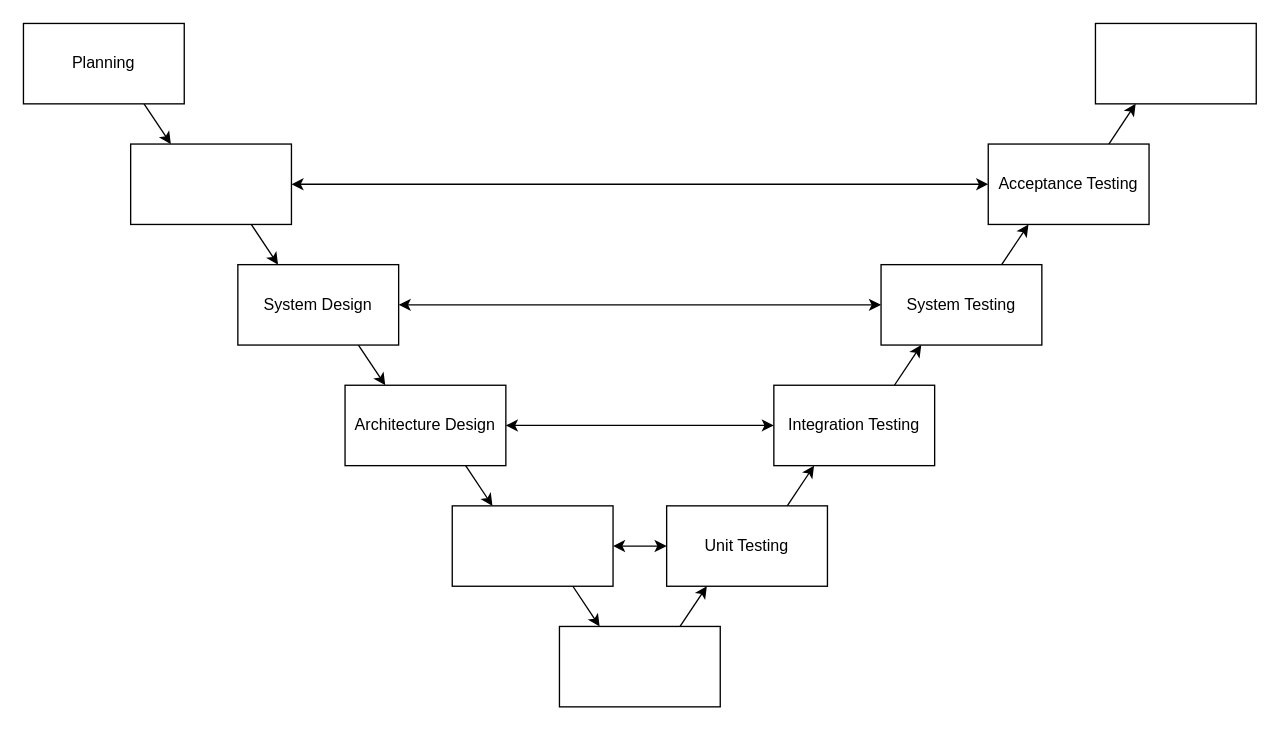
This 1280x730 diagram has some shape labels left out. Here are the shapes that lost their labels. From the top down, the centre of each, then its label:
At (x=1175, y=63): "Deployment".
At (x=210, y=183): "Requirements".
At (x=532, y=545): "Module Design".
At (x=639, y=666): "Coding".
